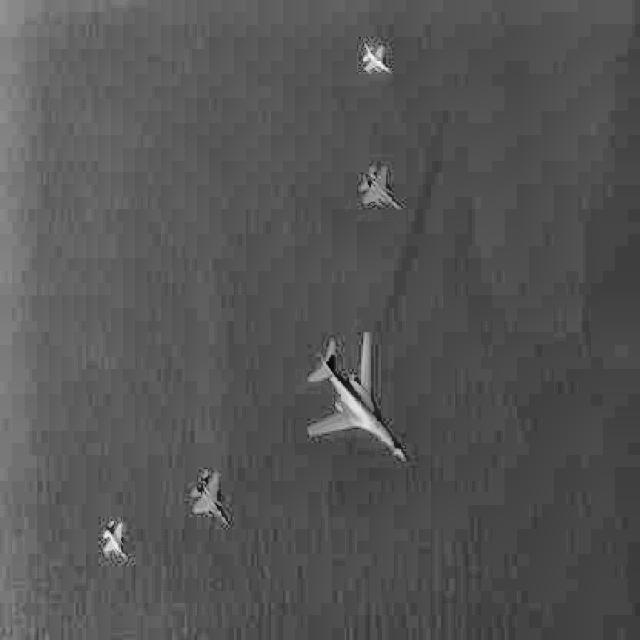B1: (307, 331, 408, 463)
F15: (192, 470, 230, 527), (360, 166, 402, 211)
F16: (102, 520, 130, 563), (362, 44, 393, 74)
